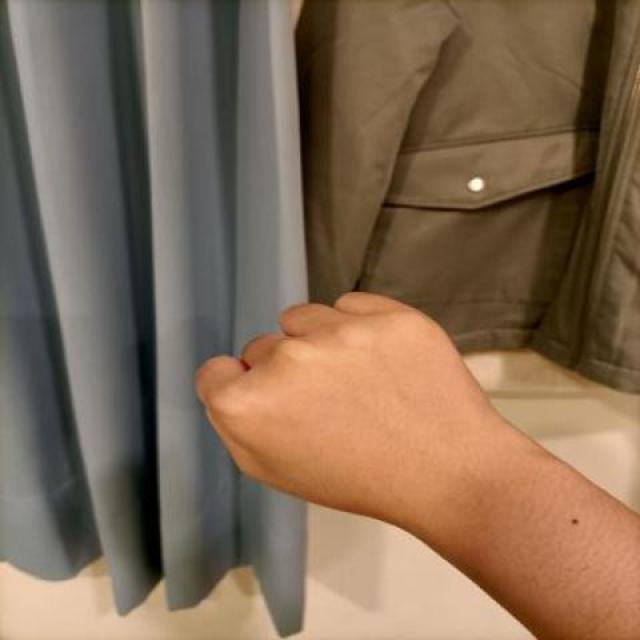Closed Hand: (153, 288, 511, 535)
